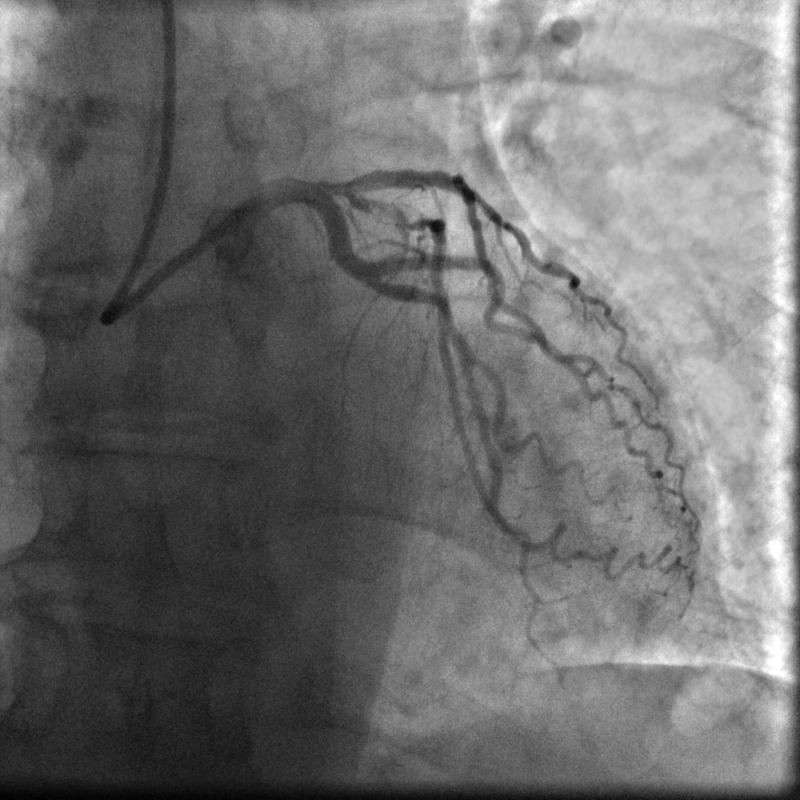Stenosis: (357, 190, 427, 232)
